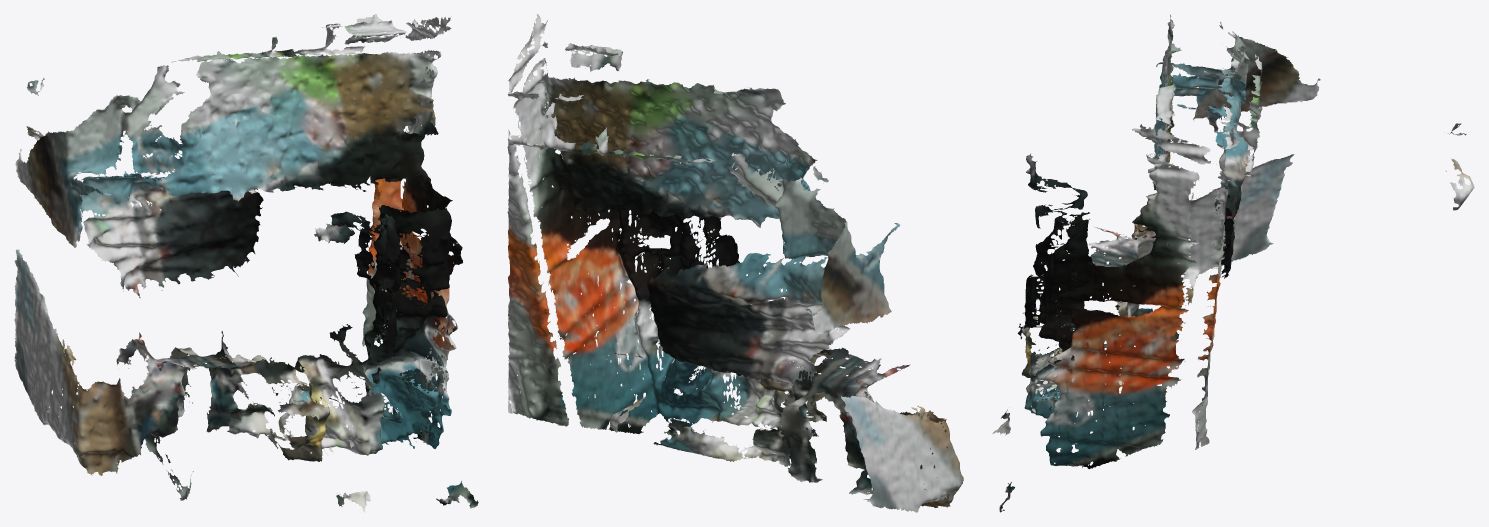
The model's file is color_model_f008_20251226_165930.obj.
The picture shows the model from 3 angles, left to right: view 1: azimuth 30°, elevation 25°; view 2: azimuth 150°, elevation 25°; view 3: azimuth 270°, elevation 25°; orthographic projection. The views are drawn at different scales.
Size of the model in its own units: 2.33 by 2.49 by 2.64.
